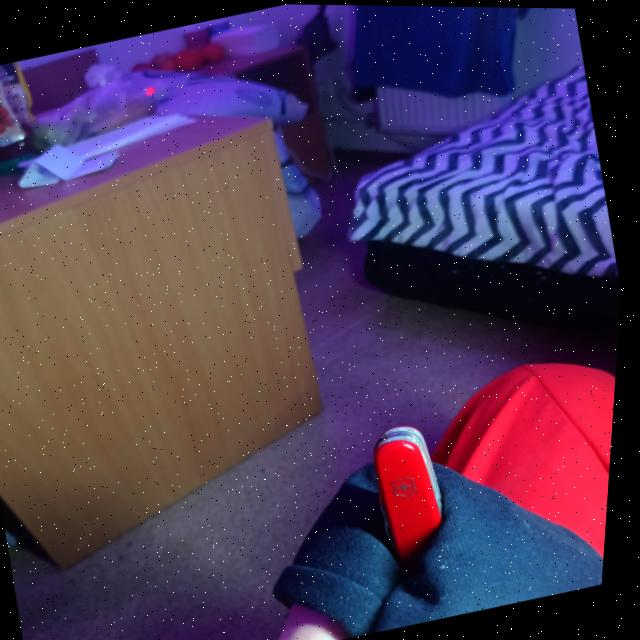knife victorinox: (379, 425, 449, 560)
